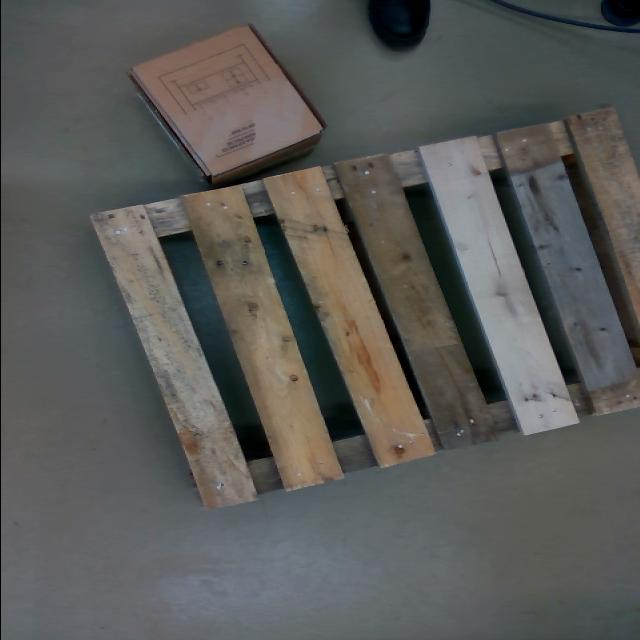pallet: (91, 106, 640, 512)
